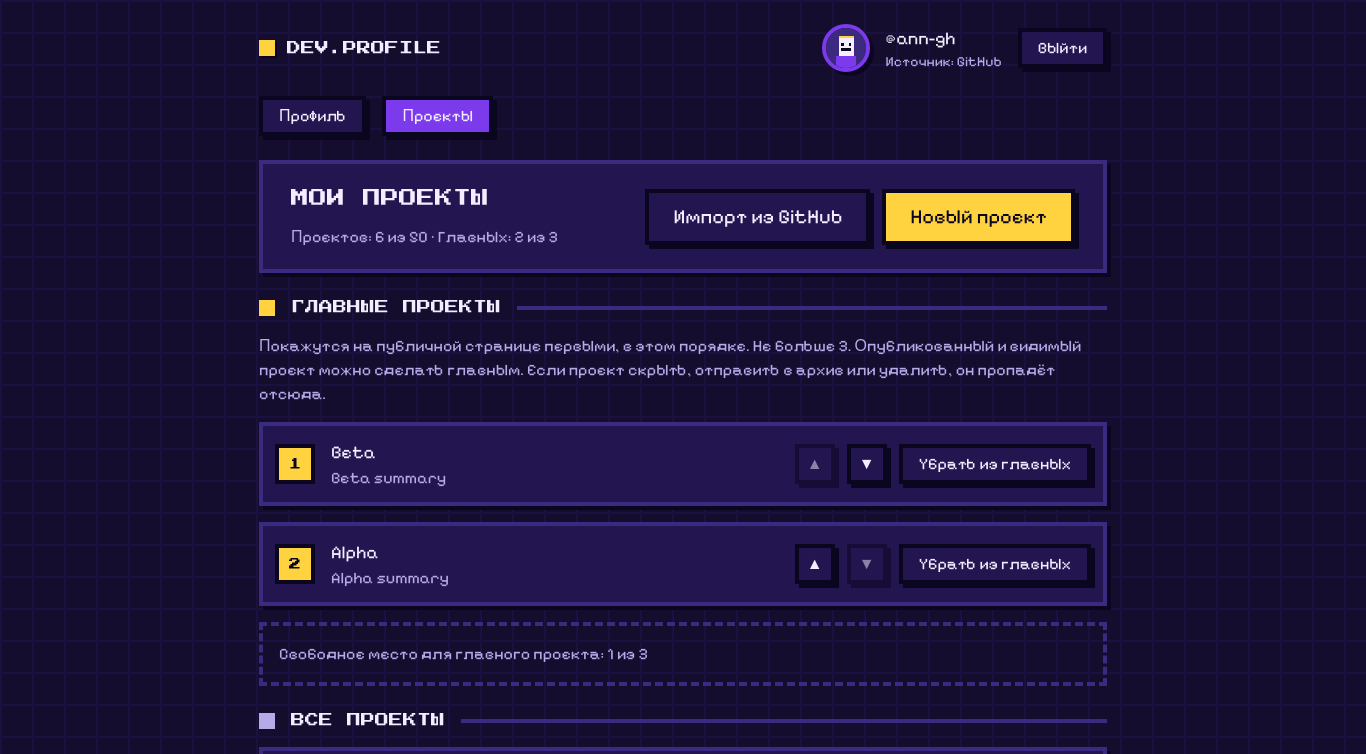
Scenario: featured order › FEATURED_ORDER_MISMATCH reloads the list with a message
Expected: the heading "Мои проекты" is shown, [291,189,489,207]
Click the button named "Выше: Alpha" at (815, 564), box [795,544,835,584]
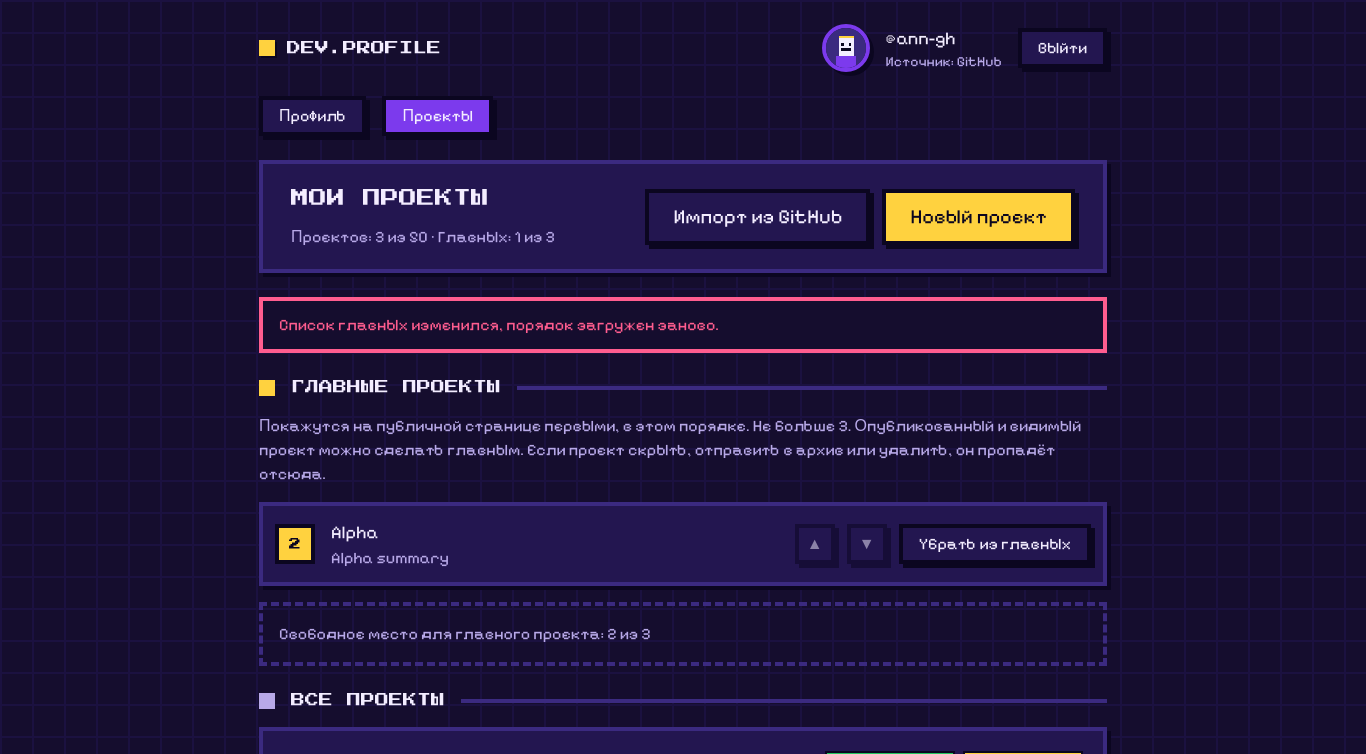
Expected: the message reads "Список главных изменился, порядок загружен заново.", [279,315,719,334]
